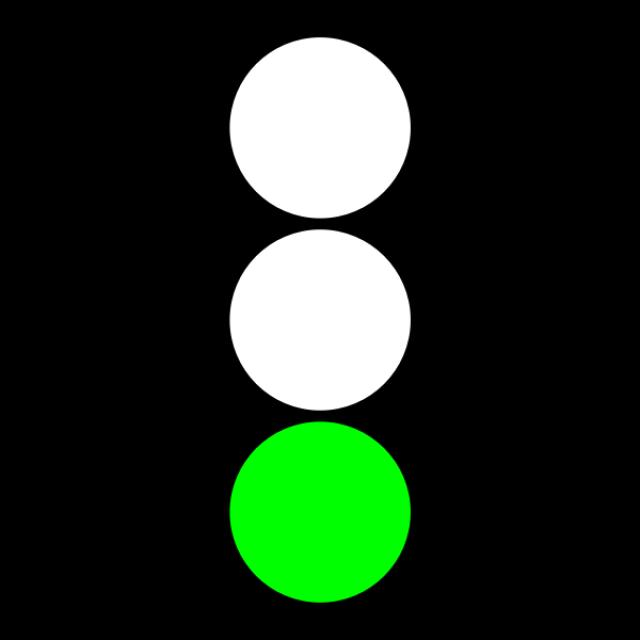green: (234, 407, 418, 597)
